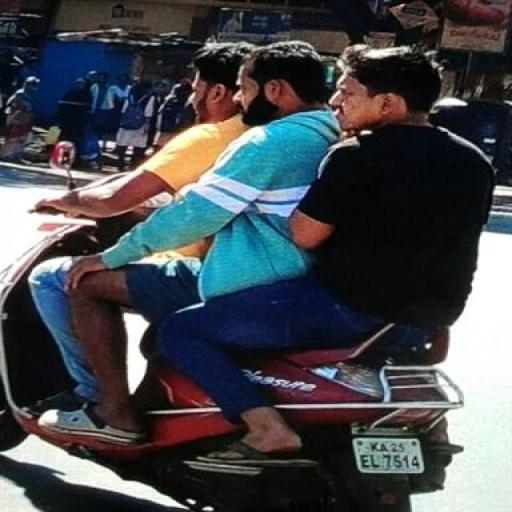tripple riding: (24, 21, 498, 328)
